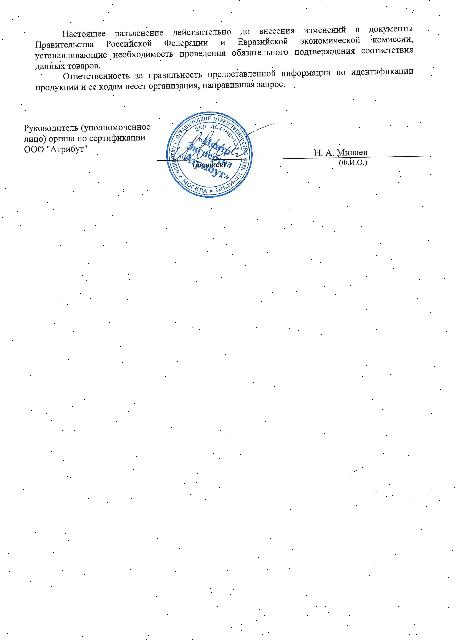stamp: (166, 110, 254, 198)
